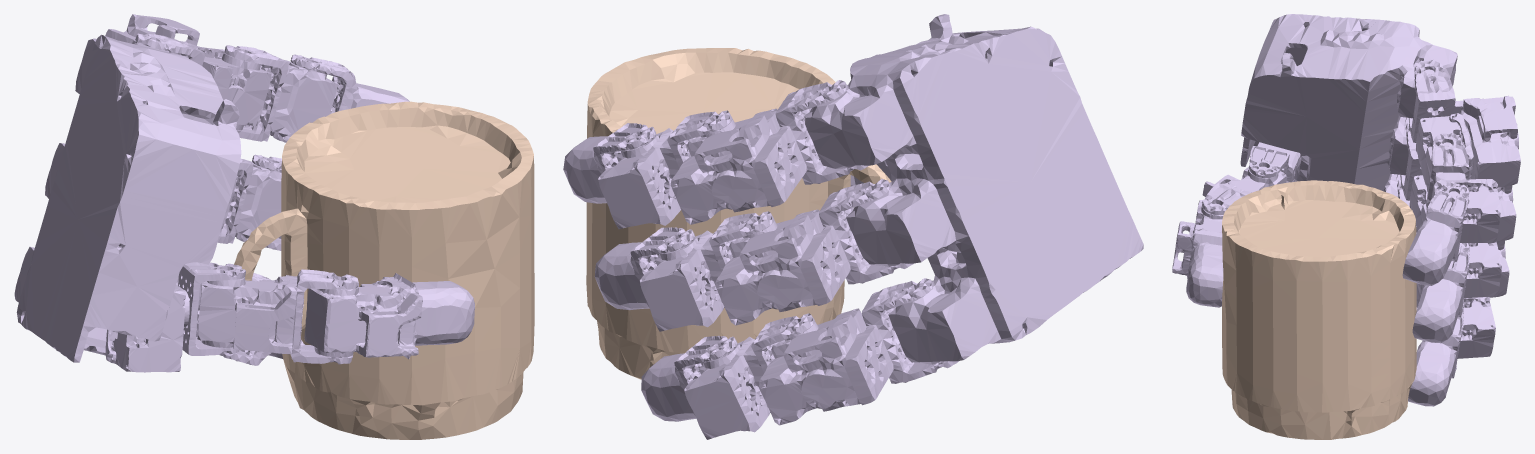
The model's file is 10473bba120537-final.glb.
3 views of the same model, side by side, from view 1: azimuth 30°, elevation 25°; view 2: azimuth 150°, elevation 25°; view 3: azimuth 270°, elevation 25° (orthographic). The views are drawn at different scales.
Parts seen in each view (by area): view 1: LEAP_hand, world; view 2: LEAP_hand, world; view 3: LEAP_hand, world.
Part boxes in pixels (x1,y1,x2,y2): LEAP_hand: [14, 14, 474, 372]; world: [234, 101, 534, 439]; LEAP_hand: [563, 14, 1143, 439]; world: [586, 48, 891, 379]; LEAP_hand: [1172, 14, 1520, 406]; world: [1222, 180, 1416, 439].
Size of the model in its own units: 0.2301 by 0.1762 by 0.1857.
